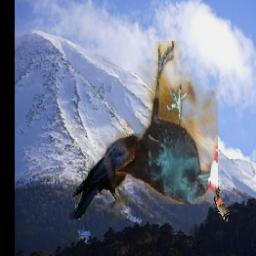Crow: (116, 41, 219, 204), (69, 134, 148, 220)
Woodpecker: (214, 184, 231, 223)
